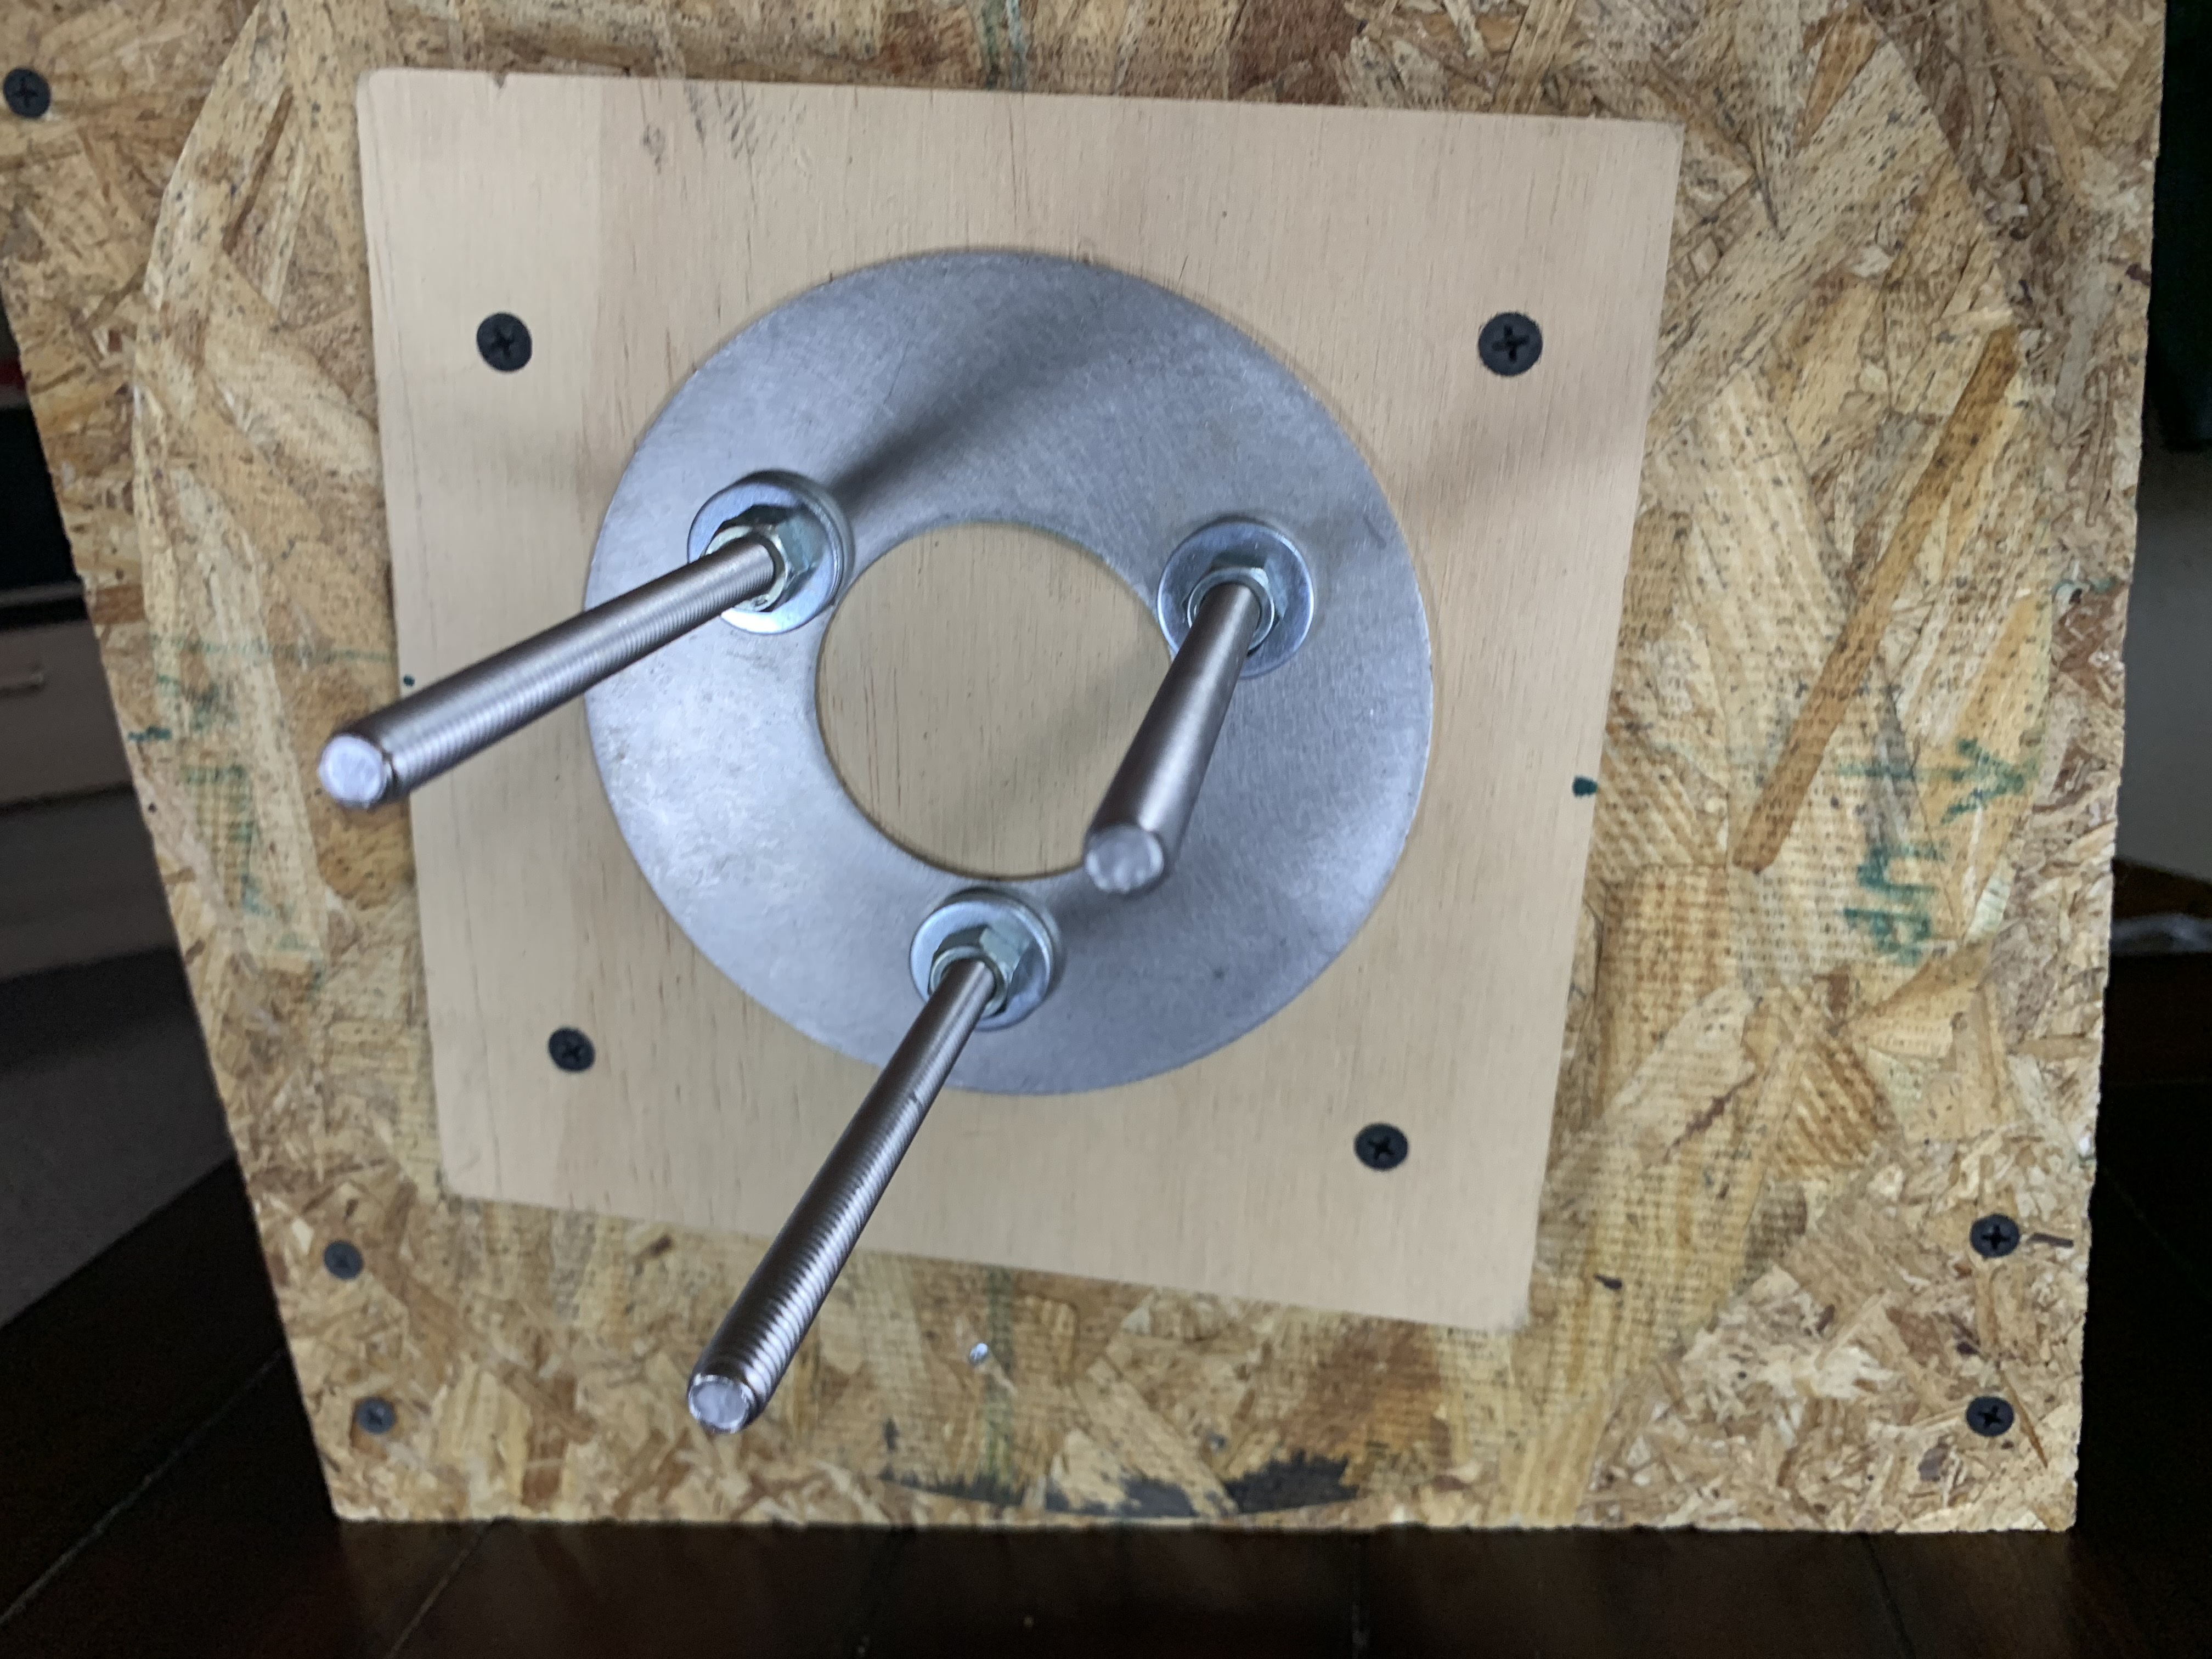bolt: (683, 472, 862, 633), (1153, 514, 1312, 681), (907, 885, 1069, 1033)
